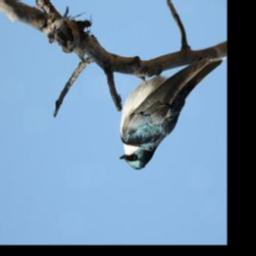Swallow: (117, 56, 223, 172)
